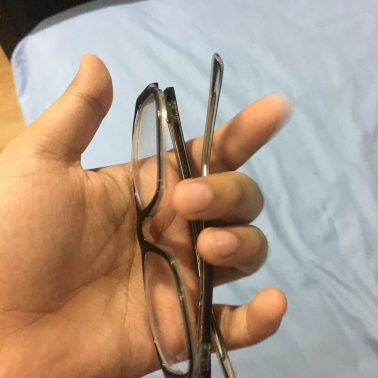glasses: (108, 68, 248, 378)
